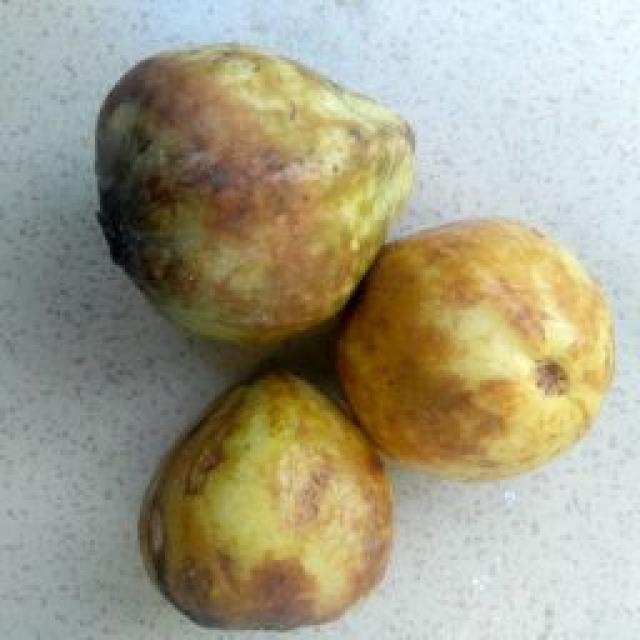Bad_Guava: (98, 45, 414, 343), (141, 371, 391, 627)
